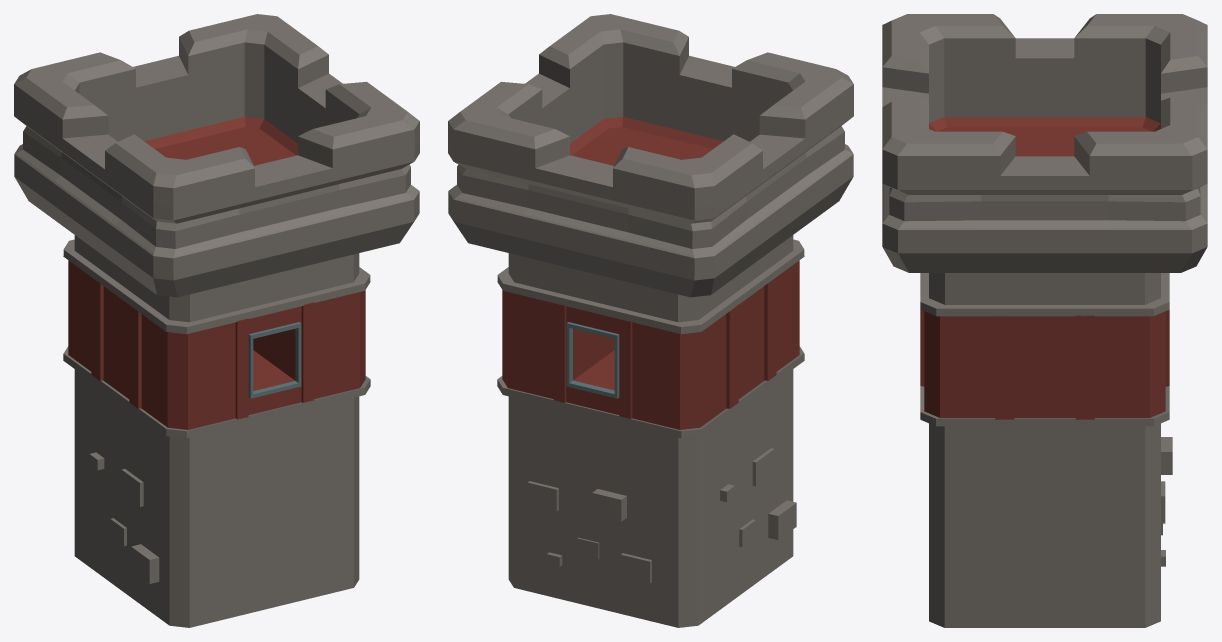
File: Tower.fbx
3 views of the same model, side by side, from view 1: azimuth 30°, elevation 25°; view 2: azimuth 150°, elevation 25°; view 3: azimuth 270°, elevation 25° (orthographic). The views are drawn at different scales.
Visible parts, largest first — view 1: tower; view 2: tower; view 3: tower.
Part boxes in pixels (x1,y1,x2,y2): tower: [14, 14, 419, 627]; tower: [448, 14, 853, 627]; tower: [882, 14, 1207, 627].
Bounding box in the file's own units: 825 × 1399 × 825.
